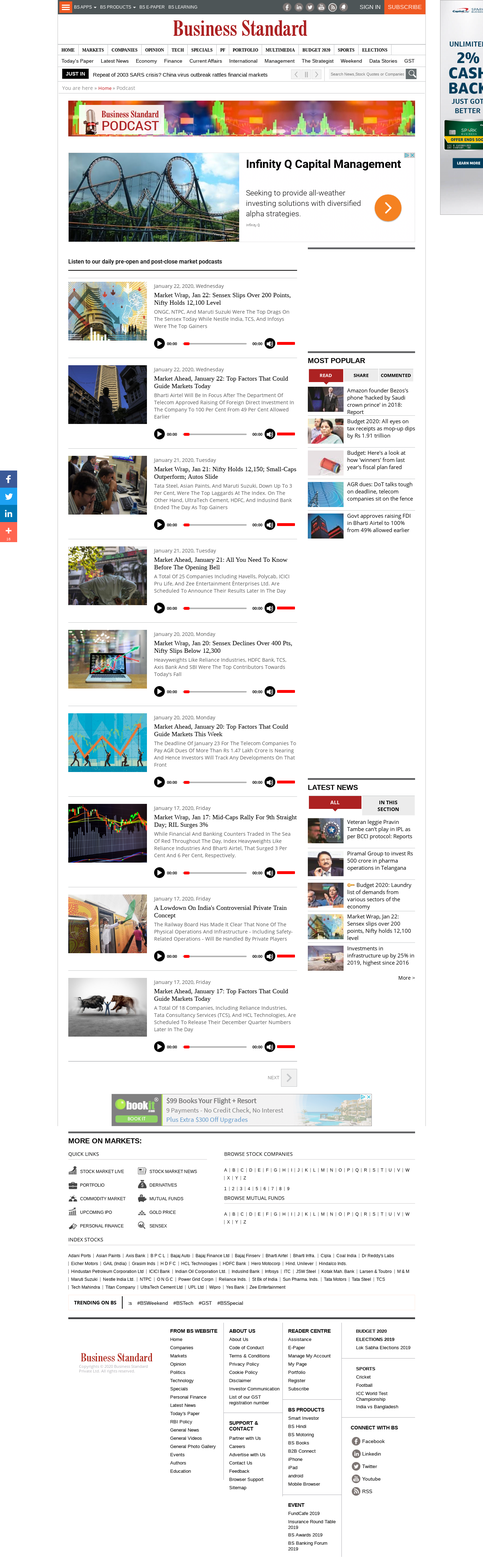fake_button: (371, 190, 414, 226)
